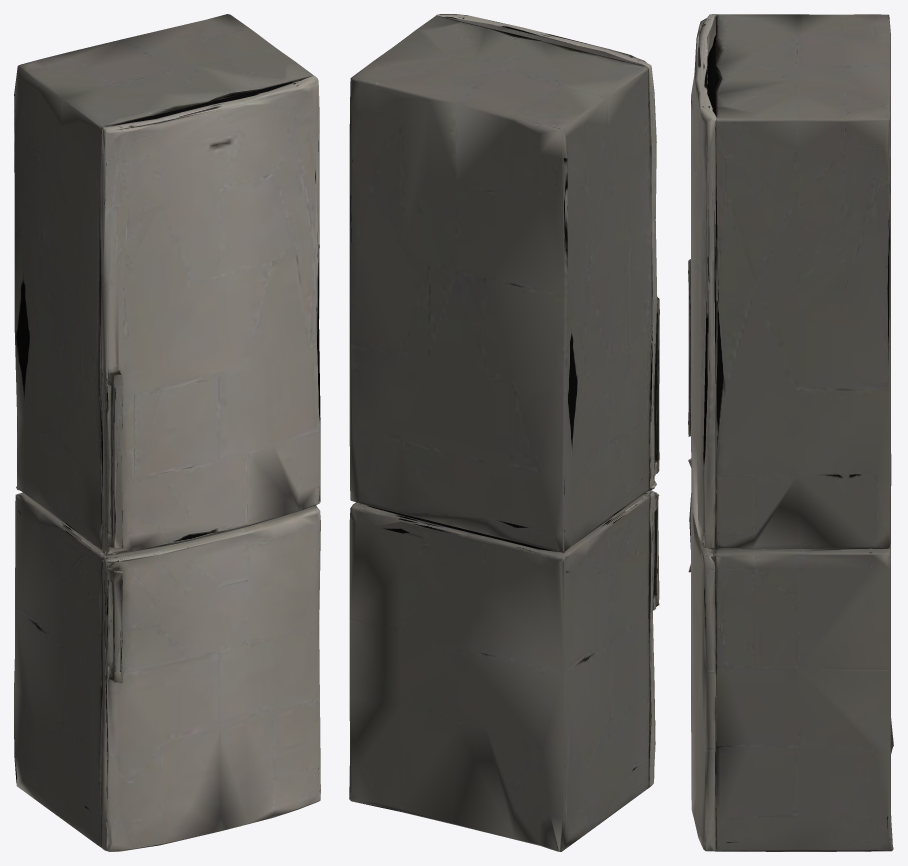
The model's file is mobile.glb.
3 views of the same model, side by side, from view 1: azimuth 30°, elevation 25°; view 2: azimuth 150°, elevation 25°; view 3: azimuth 270°, elevation 25° (orthographic).
Visible parts, largest first — view 1: fridge; view 2: fridge; view 3: fridge.
Boxes of the visible parts, x1=… form: fridge: x1=14, y1=14, x2=320, y2=851; fridge: x1=349, y1=14, x2=659, y2=851; fridge: x1=688, y1=14, x2=893, y2=851.
Size of the model in its own units: 0.566 by 1.8 by 0.4571.
1 material, 1 textured.
